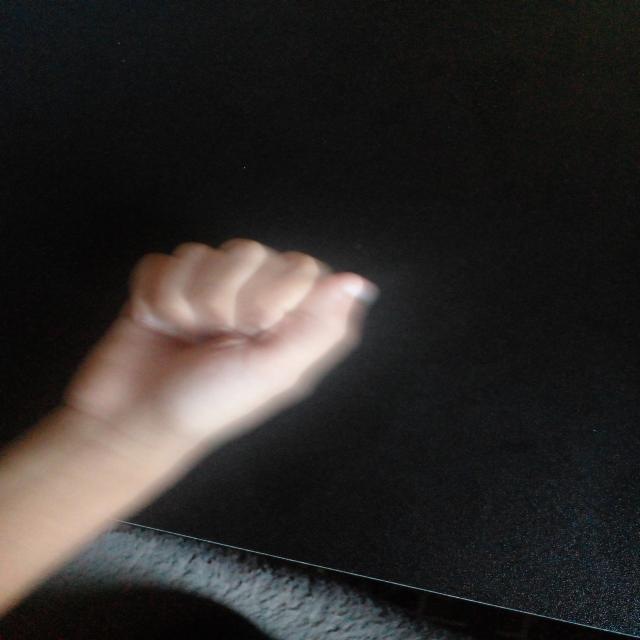Closed Hand: (68, 240, 384, 448)
